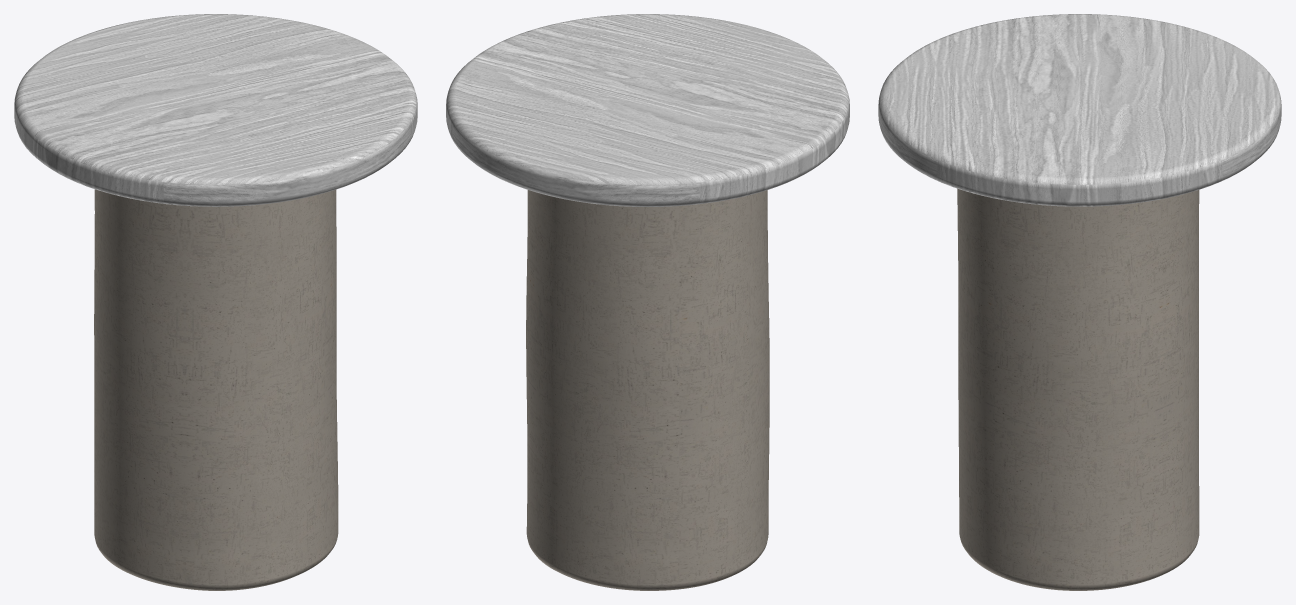
The model's file is side-table.gltf.
3 renders of one model, left to right at view 1: azimuth 30°, elevation 25°; view 2: azimuth 150°, elevation 25°; view 3: azimuth 270°, elevation 25°, orthographic.
Parts seen in each view (by area): view 1: side-table; view 2: side-table; view 3: side-table.
Boxes of the visible parts, x1=… form: side-table: x1=14, y1=14, x2=417, y2=590; side-table: x1=446, y1=14, x2=849, y2=590; side-table: x1=878, y1=14, x2=1281, y2=590.
Size of the model in its own units: 0.45 by 0.55 by 0.45.
2 materials, 2 textured.
